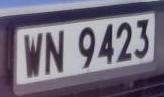2: (115, 16, 135, 69)
3: (132, 15, 152, 64)
4: (96, 16, 117, 72)
9: (76, 20, 98, 75)
N: (43, 27, 69, 81)
W: (20, 30, 44, 78)
